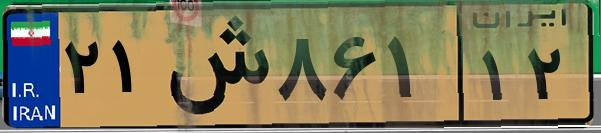1: (385, 28, 445, 110), (475, 38, 525, 113), (110, 28, 158, 98)
2: (57, 26, 110, 100), (525, 38, 570, 115)
6: (330, 28, 385, 110)
8: (270, 28, 330, 110)
ش: (158, 12, 270, 120)
